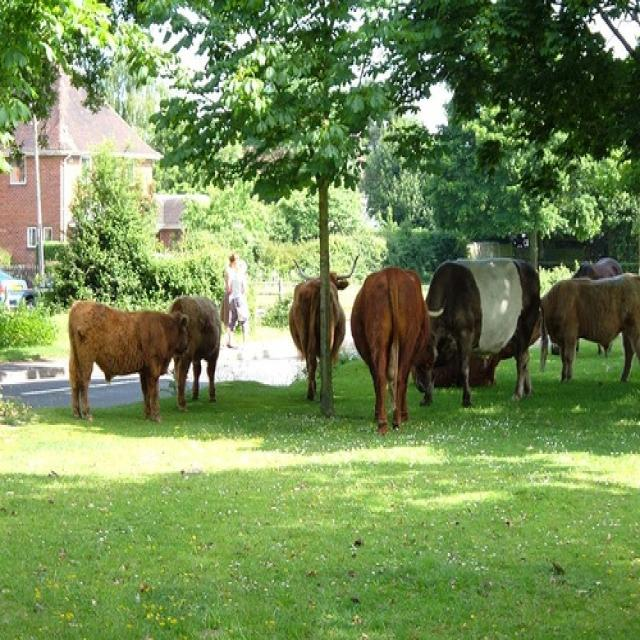cow: (418, 259, 544, 409), (353, 271, 448, 435), (70, 303, 191, 423), (539, 274, 640, 387), (290, 260, 361, 402), (173, 300, 223, 411)
